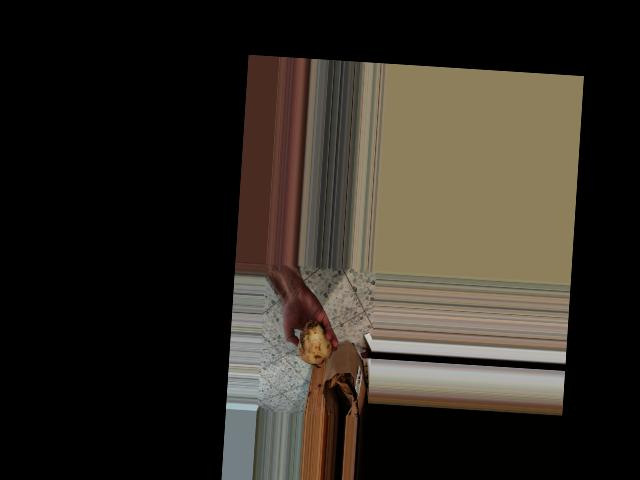onion: (293, 315, 336, 368)
